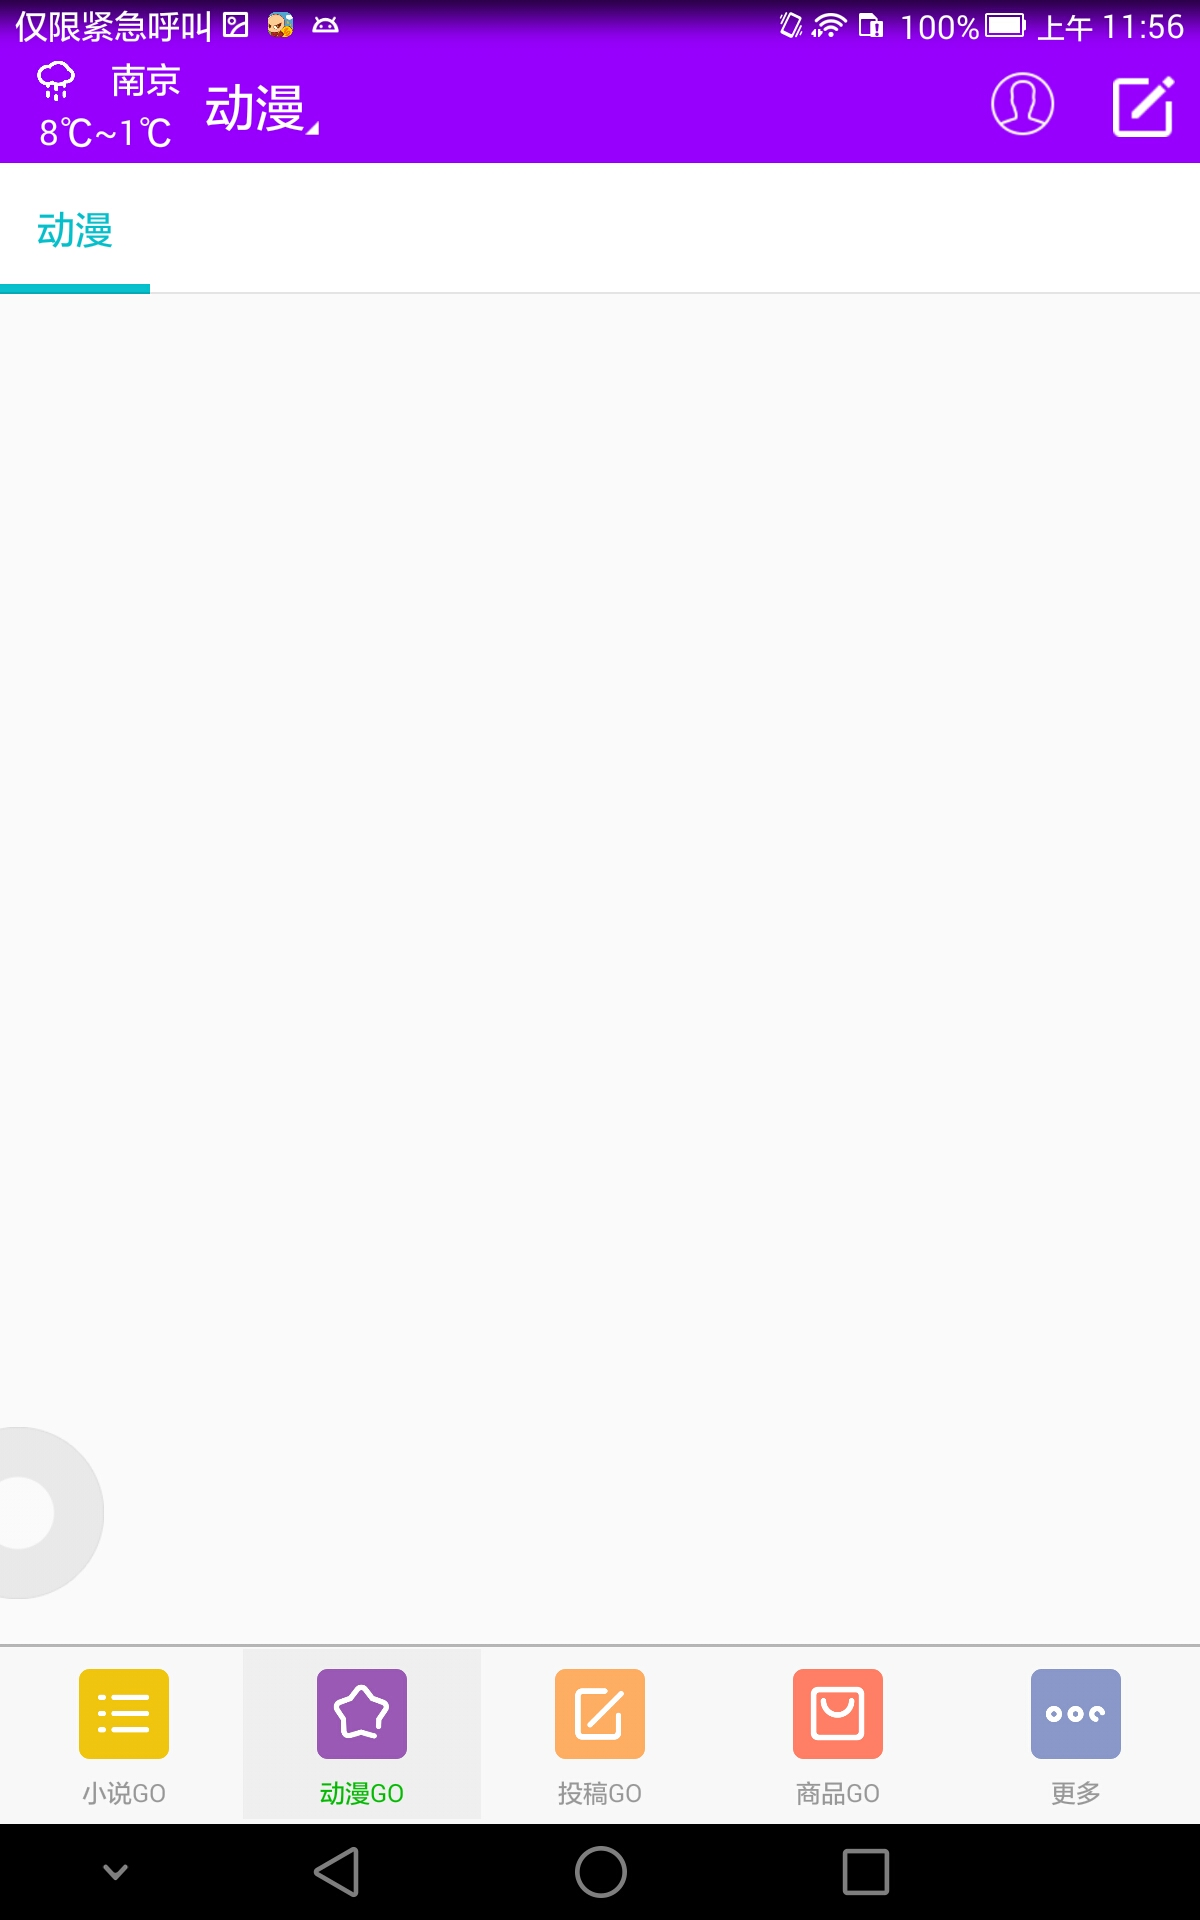nav: (18, 1648, 1143, 1812)
